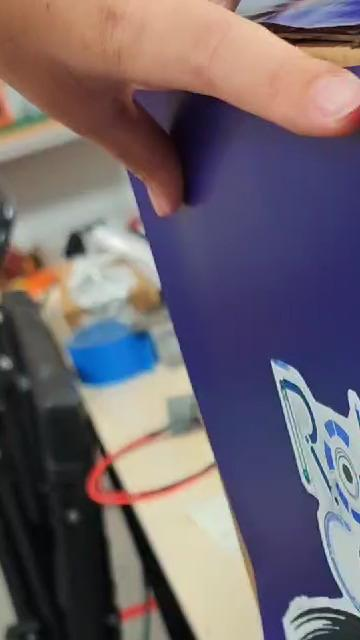B_R1: (272, 329, 360, 640)
